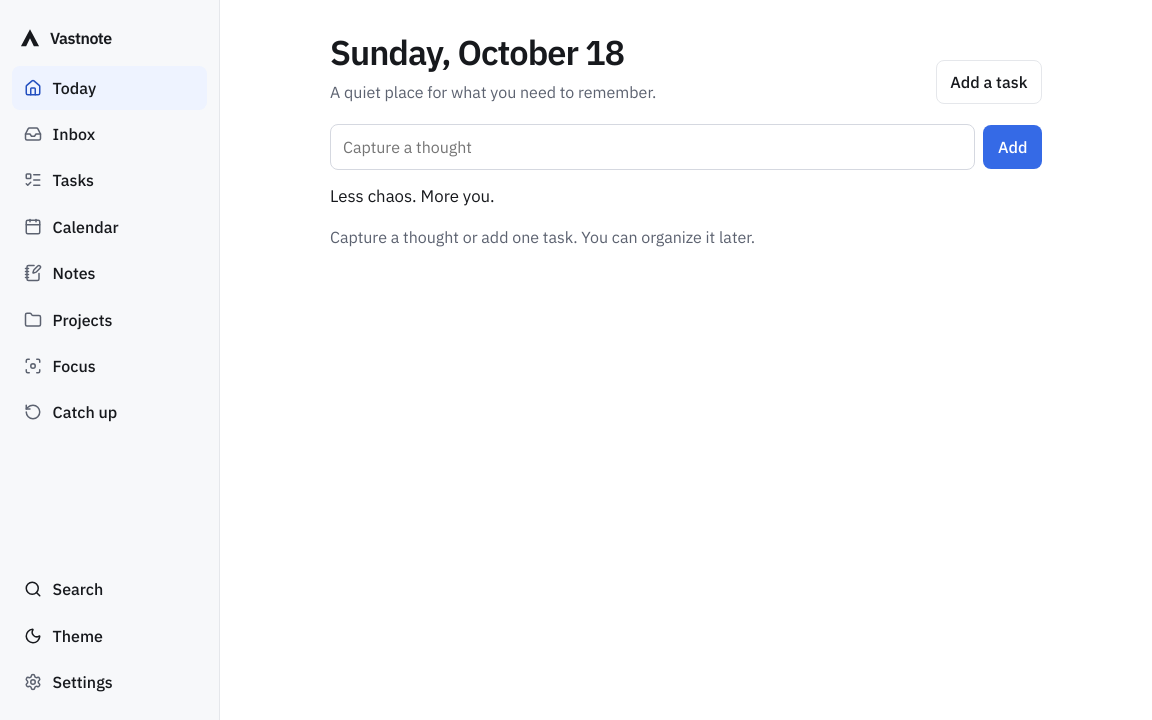
Scenario: workspace UI › captures a thought and keeps it after the inbox is opened
Expected: the heading "Sunday, October 18" is shown, x1=330 y1=32 x2=656 y2=73
In the field labelled "Capture a thought": x=653, y=147 x1=330 y1=124 x2=975 y2=170, type "Buy filters"
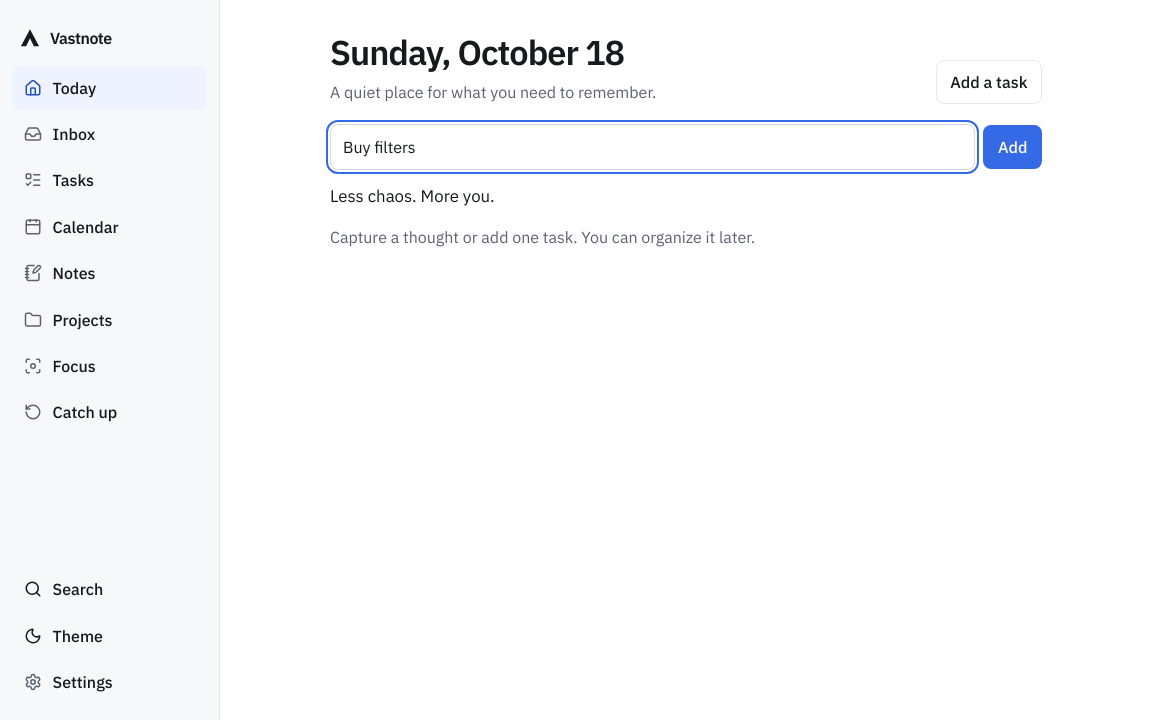
Click the button "Add": x=1013, y=147 x1=983 y1=125 x2=1042 y2=169
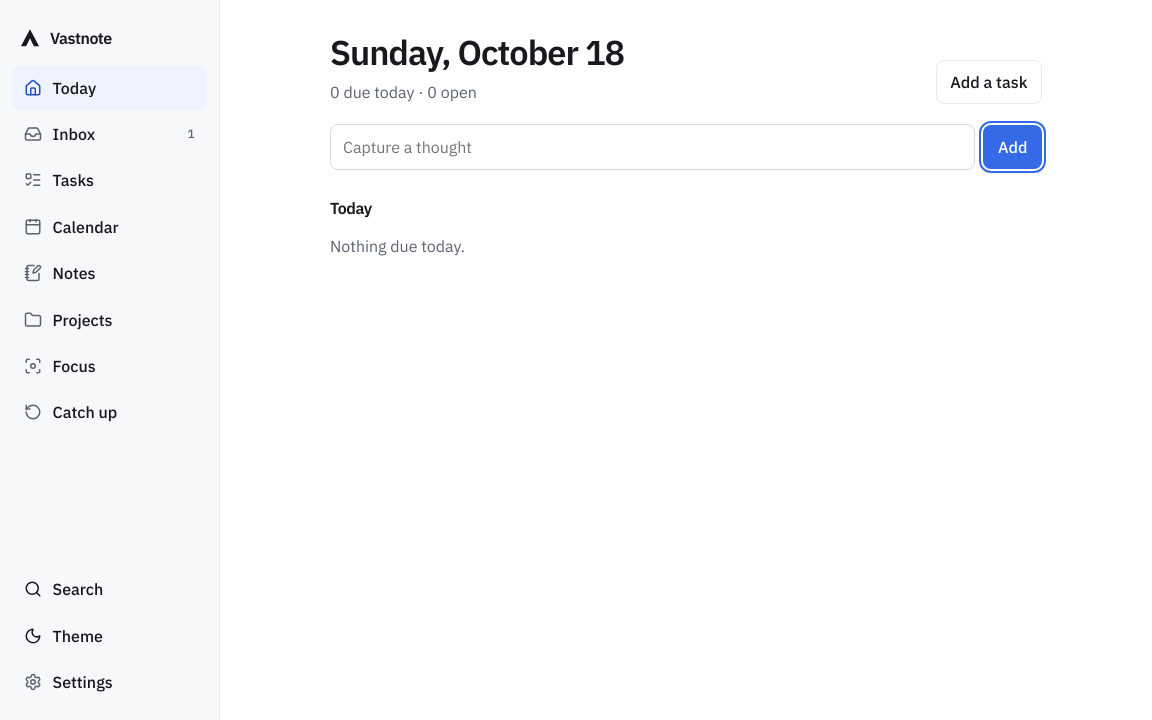
Expected: the link "Inbox 1" is shown
Click the link "Inbox 1": x=74, y=134 x1=24 y1=124 x2=195 y2=144
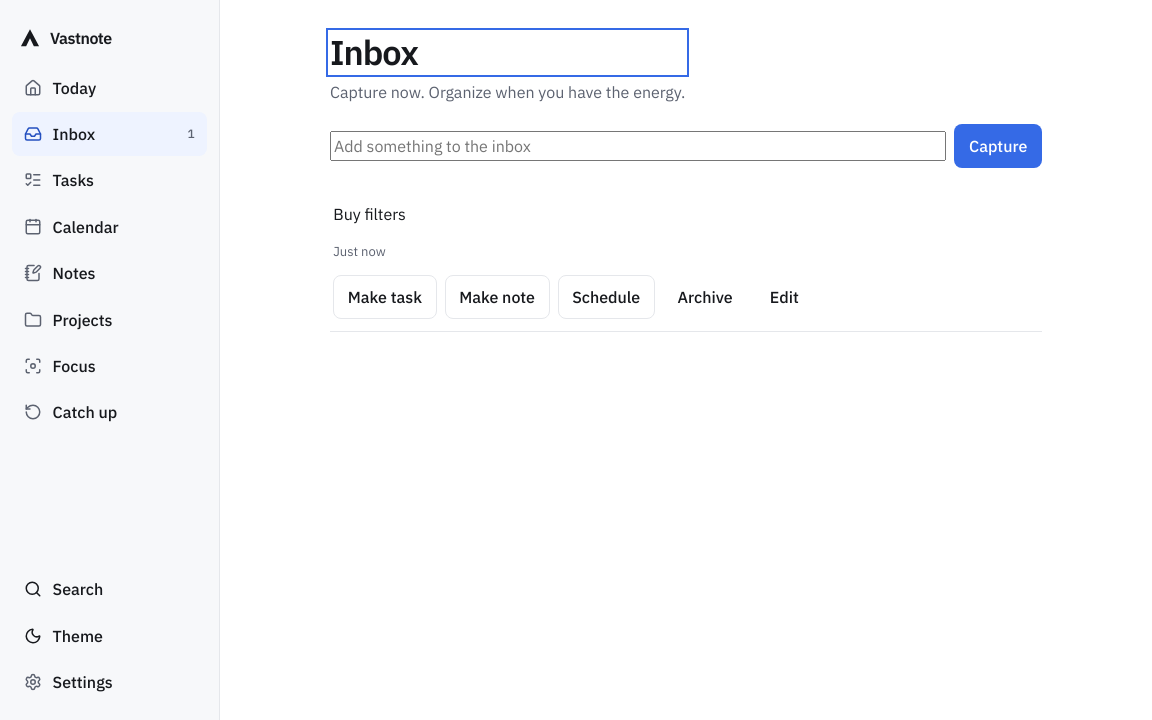
Expected: the text "Buy filters" is shown, x1=333 y1=204 x2=406 y2=224
